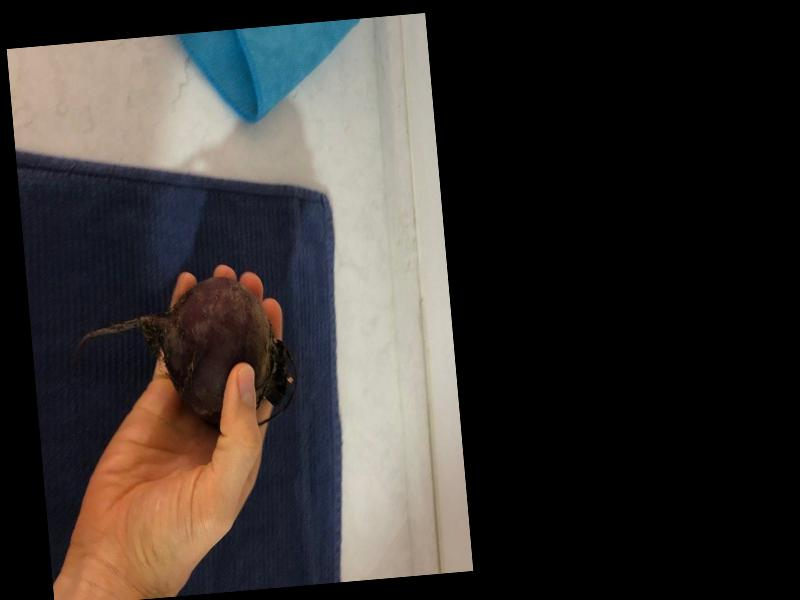Beet: (71, 272, 299, 442)
